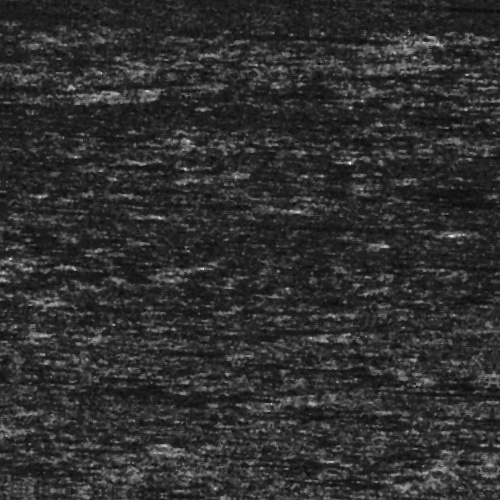object: (330, 25, 475, 40), (7, 334, 60, 347), (420, 218, 500, 225), (230, 202, 303, 209), (50, 306, 71, 313)
shadow: (193, 25, 403, 40), (437, 23, 500, 42), (113, 202, 266, 209), (318, 218, 461, 225), (430, 251, 500, 260), (0, 334, 34, 347), (0, 306, 61, 313)
